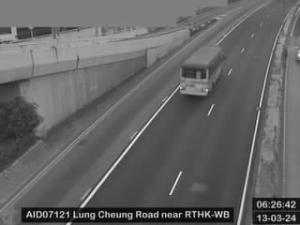bus: (179, 44, 226, 97)
